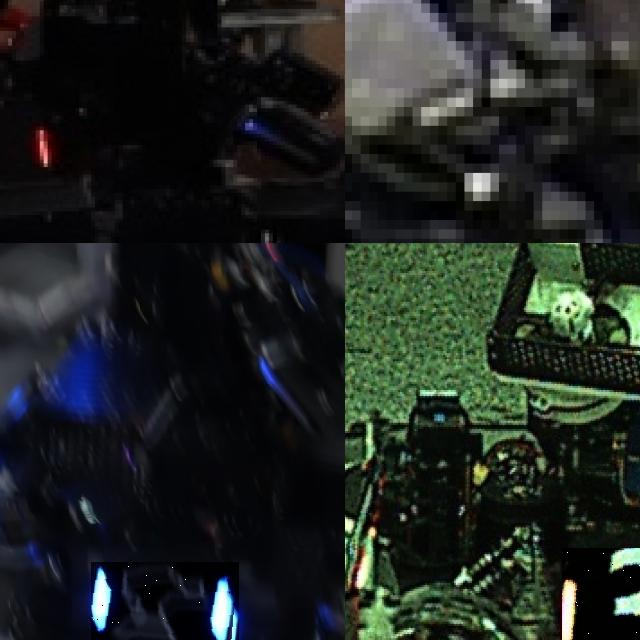Bs: (90, 562, 239, 640)
R3: (561, 548, 640, 640)
